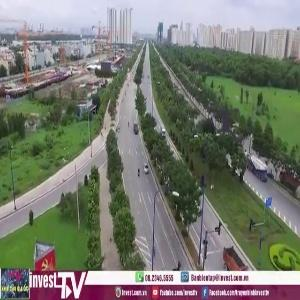drone: (183, 75, 273, 165)
